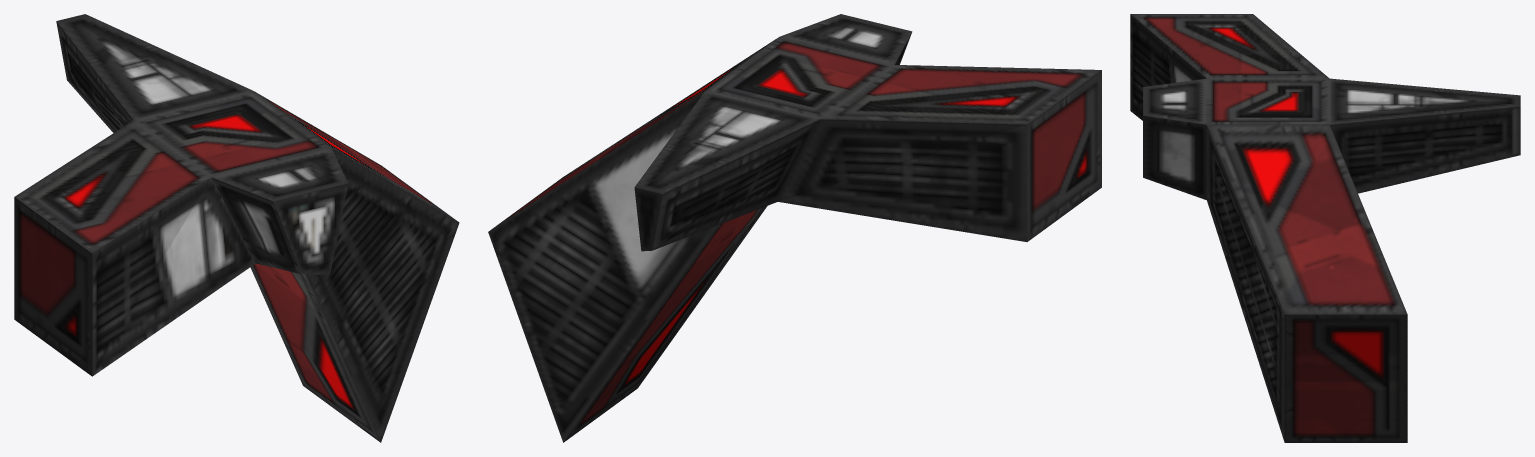
Rendered from BFP_ConstEngineStrut01_LL.FBX.
3 renders of one model, left to right at view 1: azimuth 30°, elevation 25°; view 2: azimuth 150°, elevation 25°; view 3: azimuth 270°, elevation 25°, orthographic. The views are drawn at different scales.
Visible parts, largest first — view 1: BFP_ConstEngineStrut01_LL; view 2: BFP_ConstEngineStrut01_LL; view 3: BFP_ConstEngineStrut01_LL.
Boxes of the visible parts, x1,y1,x2,y2 form: BFP_ConstEngineStrut01_LL: [14, 14, 459, 442]; BFP_ConstEngineStrut01_LL: [488, 14, 1101, 442]; BFP_ConstEngineStrut01_LL: [1130, 14, 1520, 442].
Bounding box in the file's own units: 166 × 121 × 153.
1 material, 1 textured.
